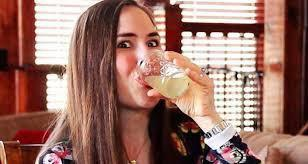Drunk: (113, 9, 165, 103)
